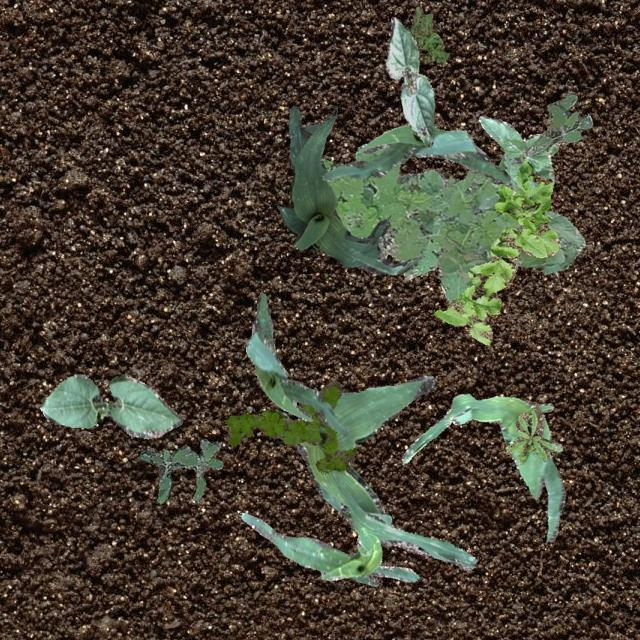crop: (276, 374, 476, 568), (276, 104, 421, 274), (400, 392, 564, 540), (244, 292, 348, 436), (240, 512, 418, 586), (320, 124, 510, 182), (38, 372, 182, 438), (478, 114, 560, 190), (386, 16, 432, 146)
weed: (322, 146, 584, 302), (432, 160, 560, 344), (223, 379, 354, 472), (138, 438, 222, 502), (524, 90, 592, 154), (504, 404, 562, 464), (406, 5, 448, 66)
